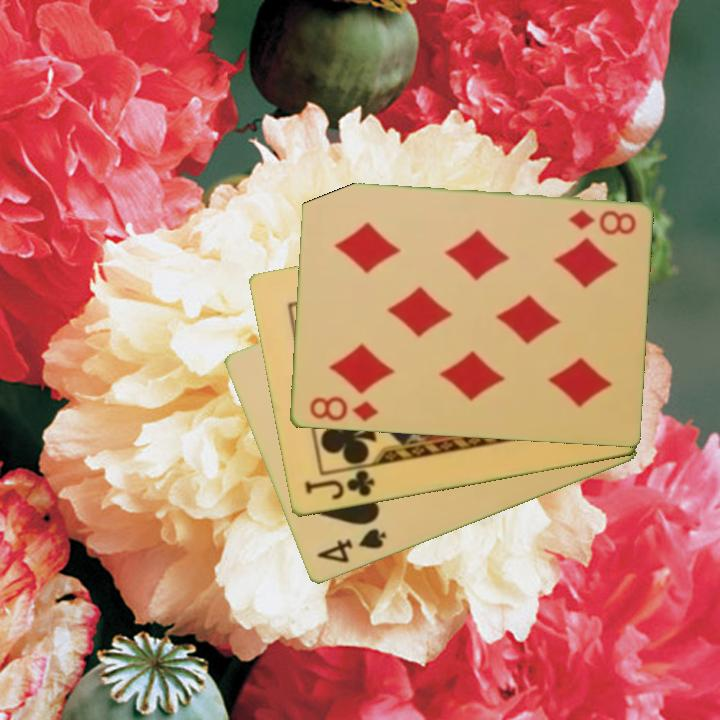4s: (313, 525, 390, 567)
8d: (305, 393, 380, 425), (565, 206, 638, 238)
Jc: (301, 467, 378, 504)
